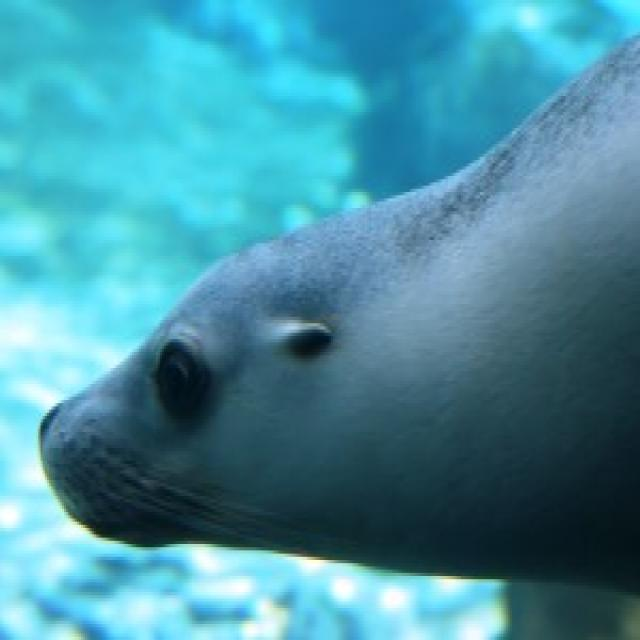Seal: (33, 47, 640, 566)
